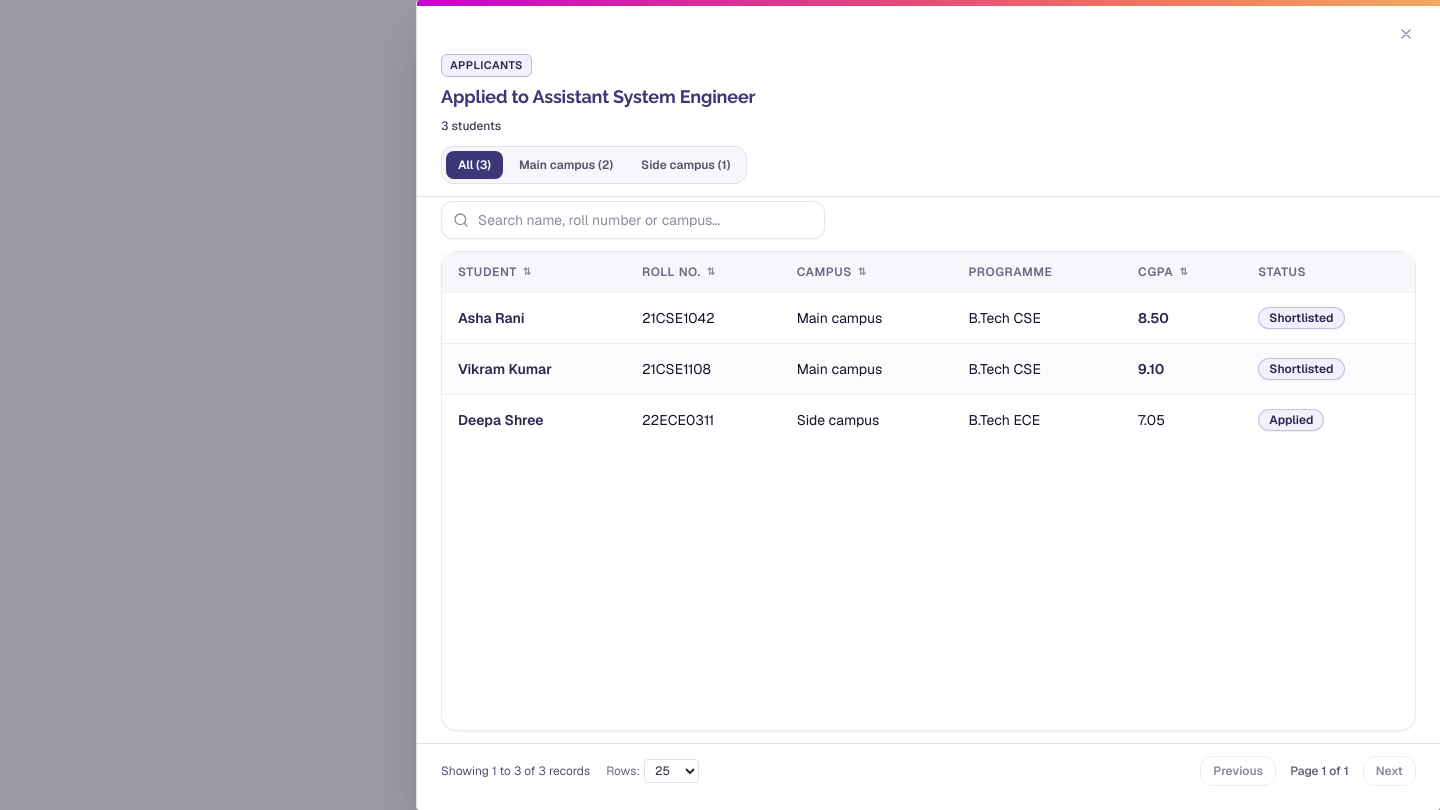
Scenario: the count→who popup › filters a count that spans more than one group, and recounts the header
Click the tab "Side campus (1)". click: (686, 165)
box: x1=629 y1=151 x2=742 y2=179
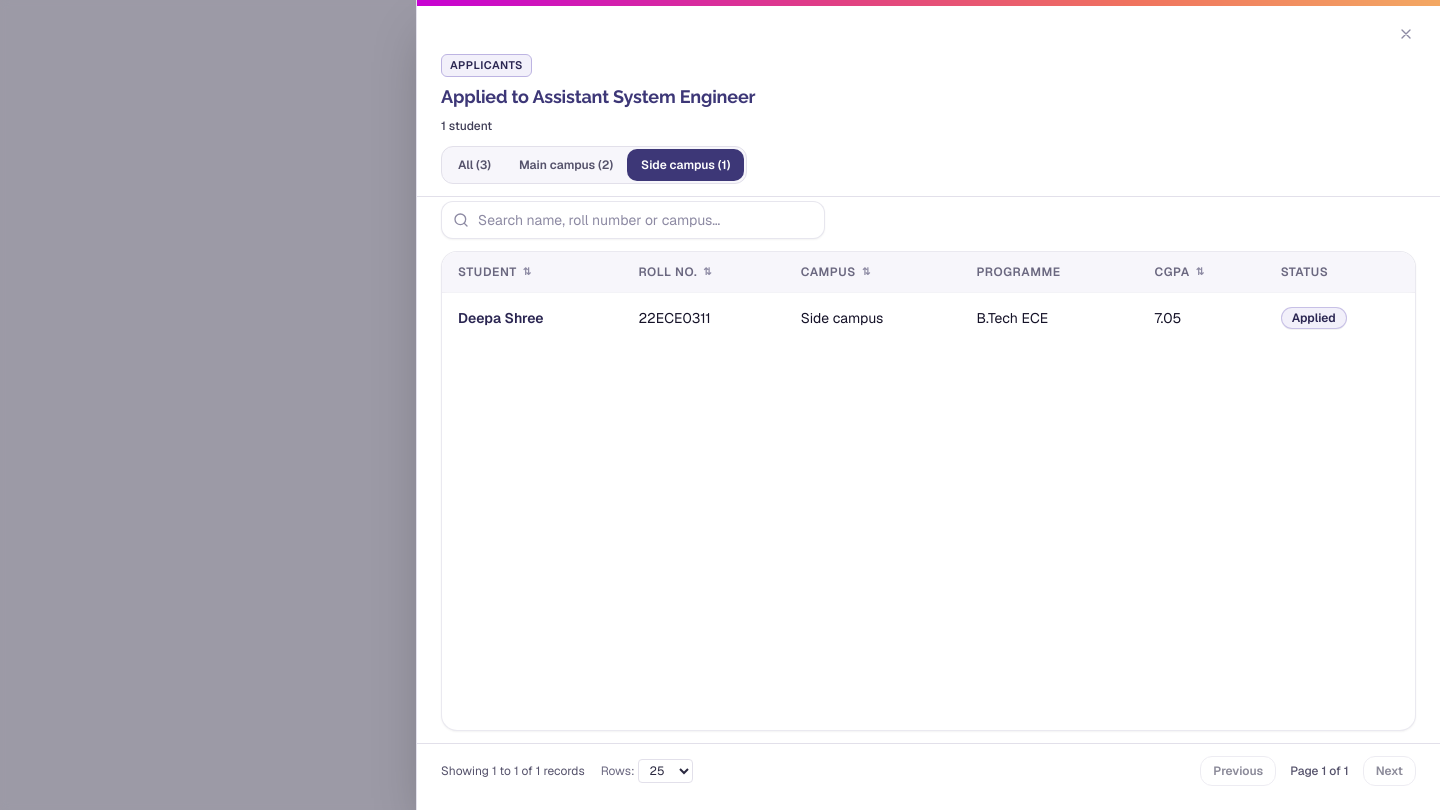
Expected: the link "Deepa Shree" is shown, x1=458 y1=309 x2=544 y2=327
Expected: the text "1 student" is shown, x1=441 y1=118 x2=492 y2=134
Expected: the link "Asha Rani" is gone
